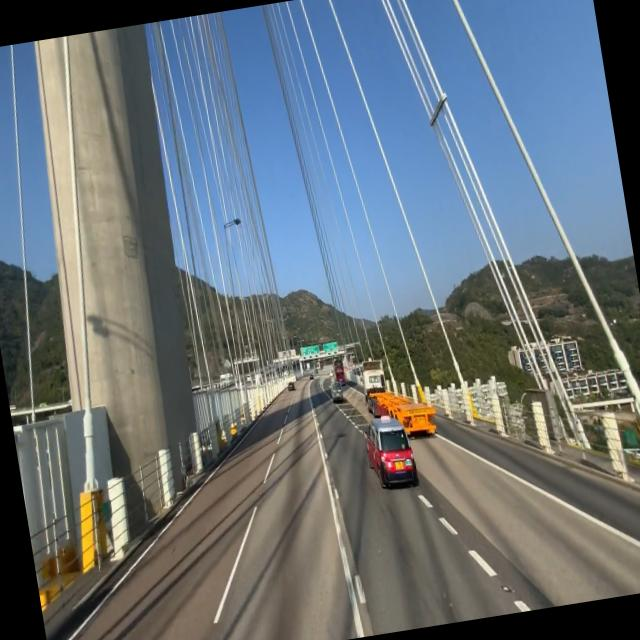Vehicle: (352, 356, 442, 446), (359, 407, 421, 499), (324, 376, 348, 408)
